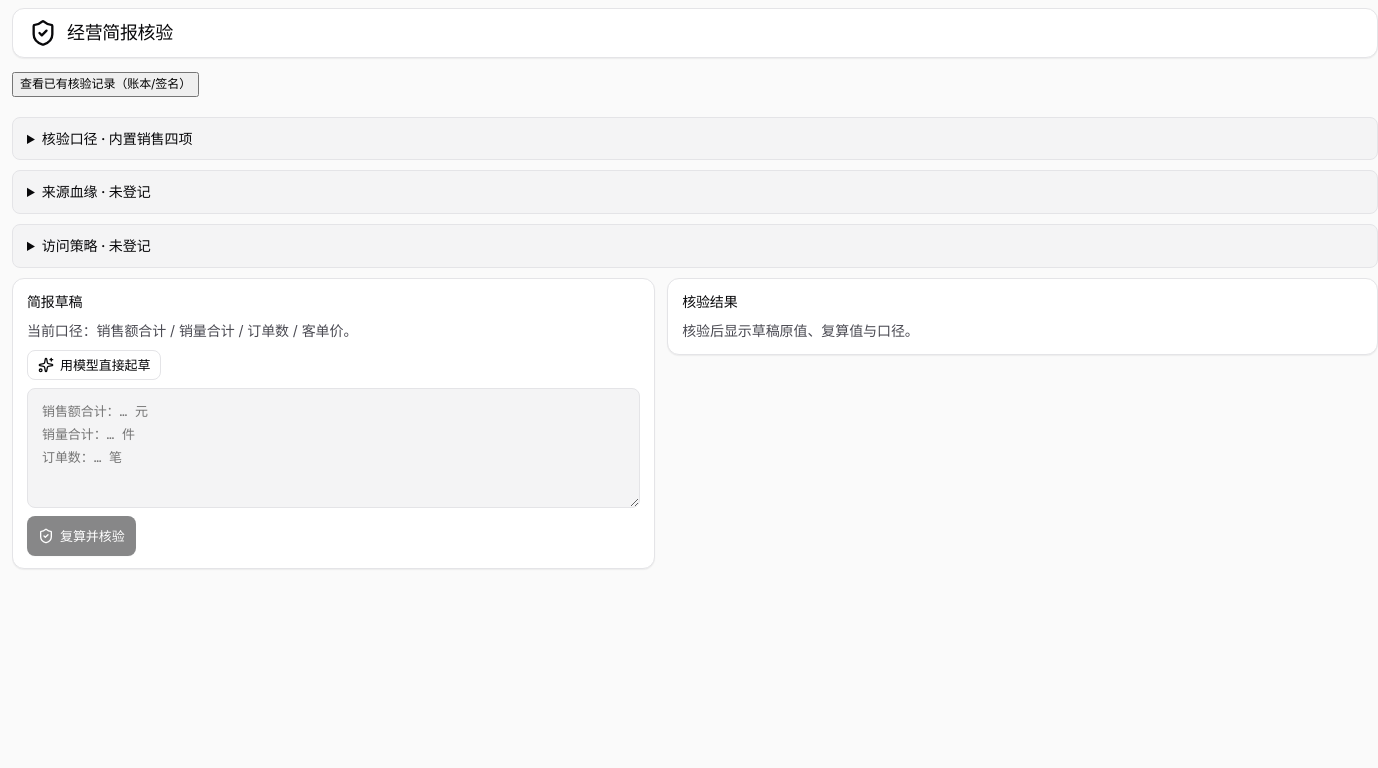
SalesAudit › 核验失败时展示错误而不崩溃
Type "订单数：1 笔" into the text box labelled "简报草稿".
click(334, 448); type("订单数：1 笔")  # box [27,388,640,508]
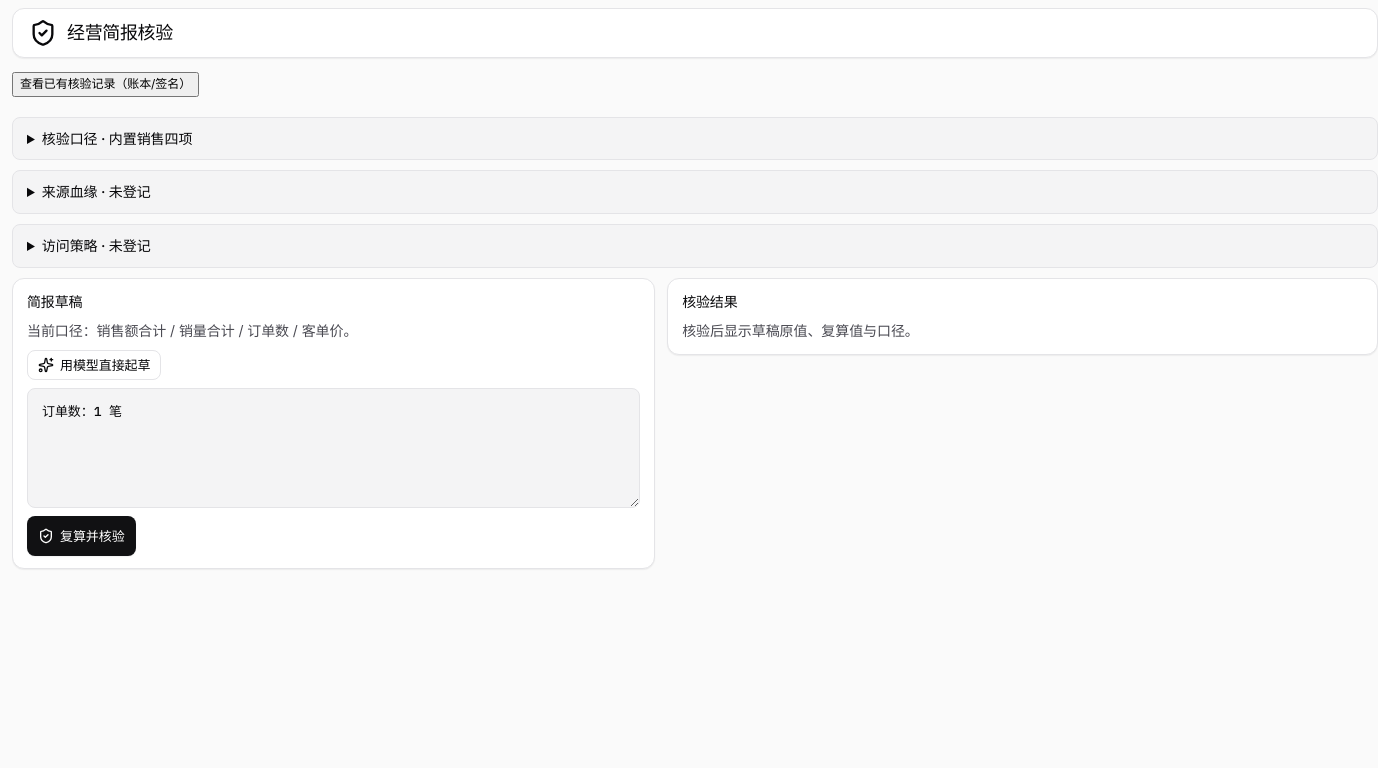
Click the button "复算并核验".
click(81, 536)  # box [27,516,136,556]
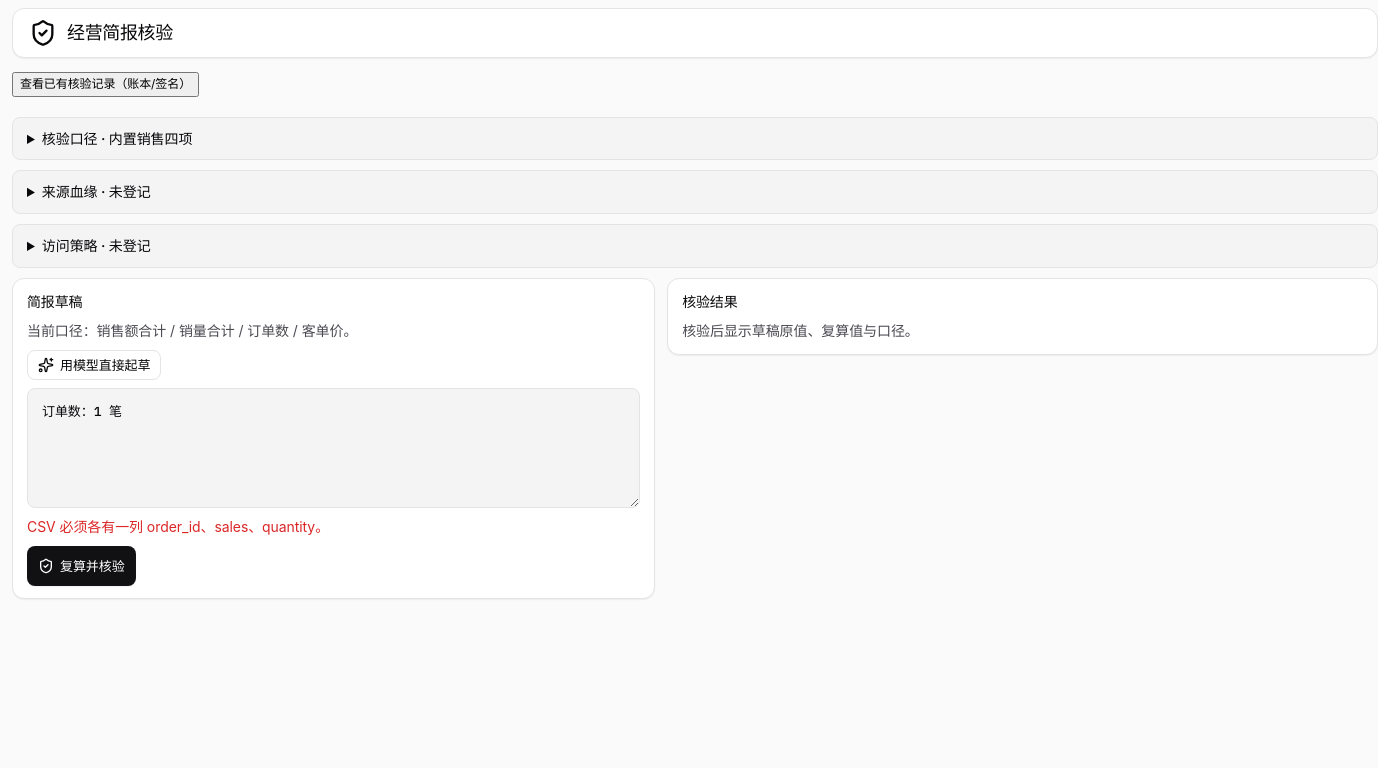
Check: the message shows "order_id", box [27,518,329,535]
